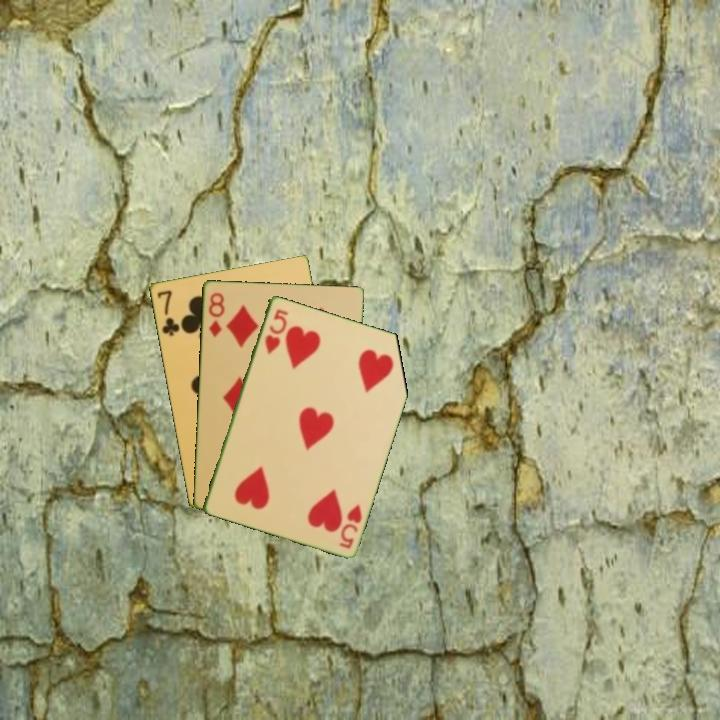5h: (261, 305, 291, 357), (336, 500, 365, 551)
7c: (153, 286, 182, 339)
8d: (205, 289, 227, 340)
